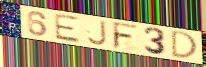3: (143, 27, 168, 56)
6: (26, 11, 49, 38)
D: (171, 29, 199, 60)
E: (53, 12, 82, 44)
F: (111, 21, 140, 51)
J: (86, 19, 108, 47)
